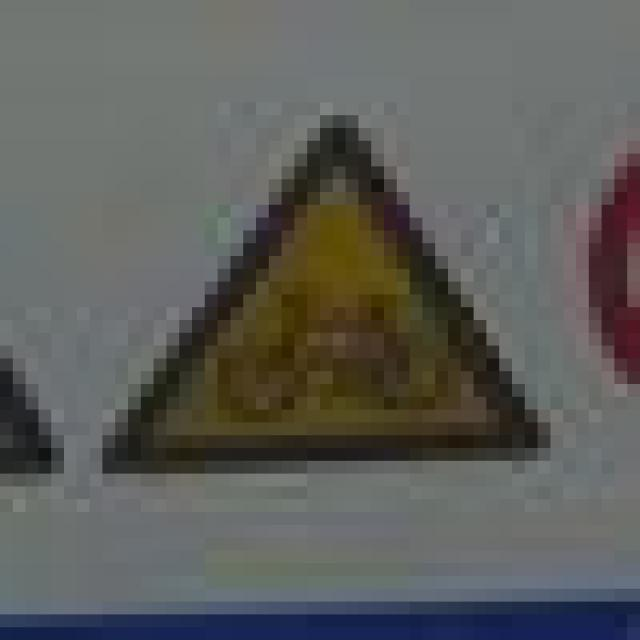CYCLE_CROSSING: (76, 102, 538, 474)
